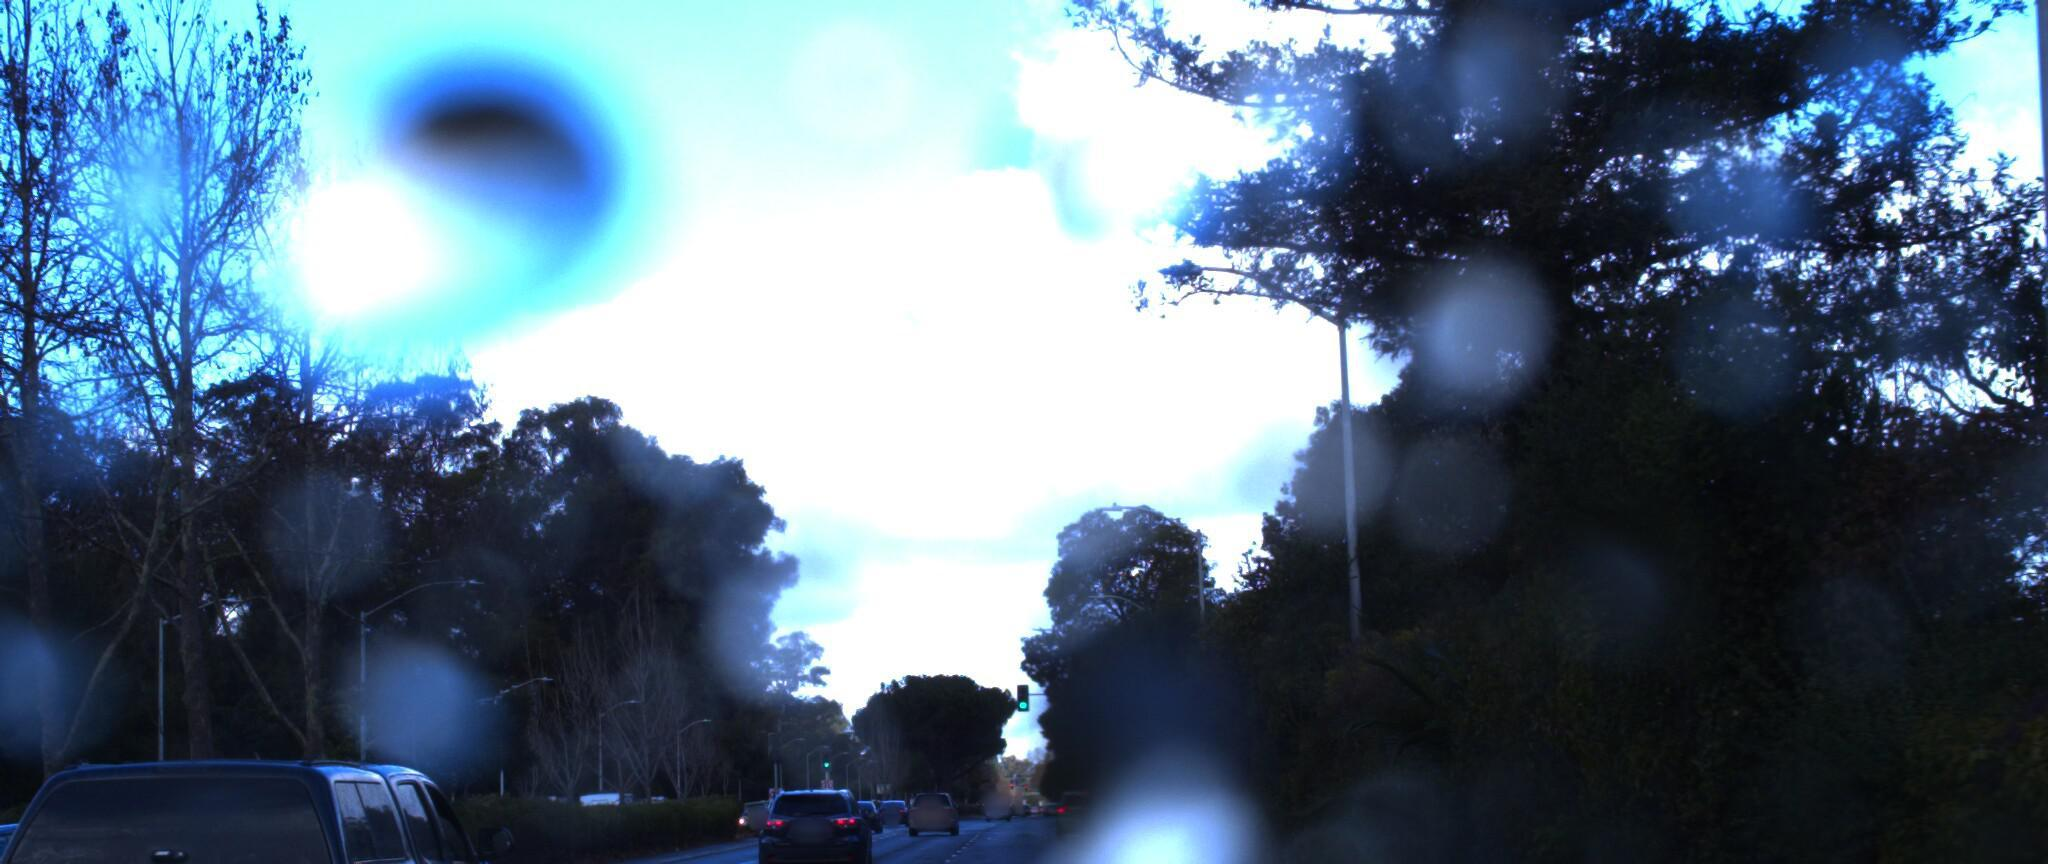car: (0, 744, 566, 864), (748, 761, 878, 864), (0, 800, 204, 864)
truck: (0, 750, 165, 864)
